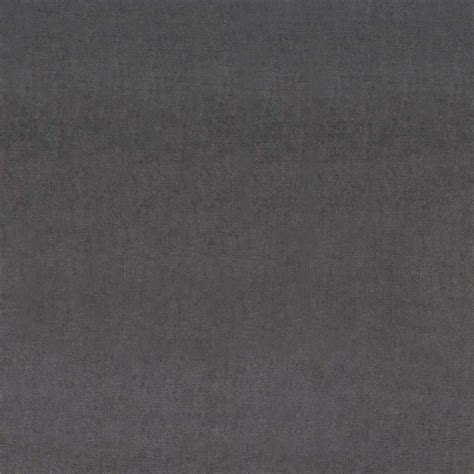gamuza: (1, 1, 474, 474)
